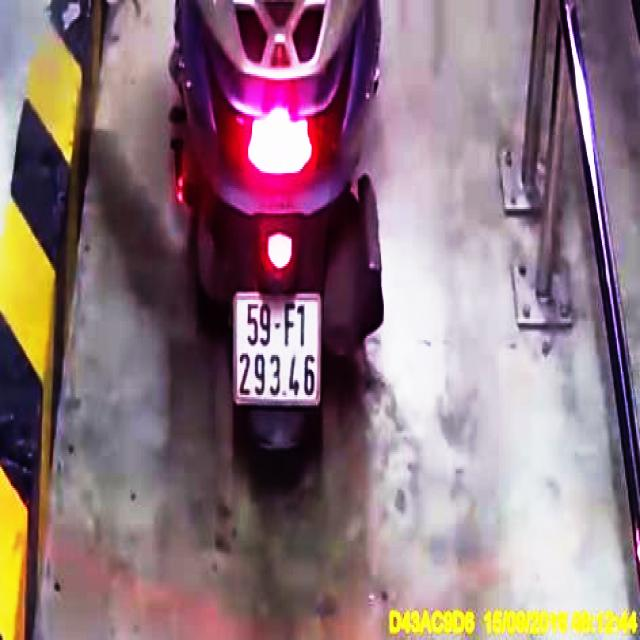license_plate: (234, 292, 321, 410)
